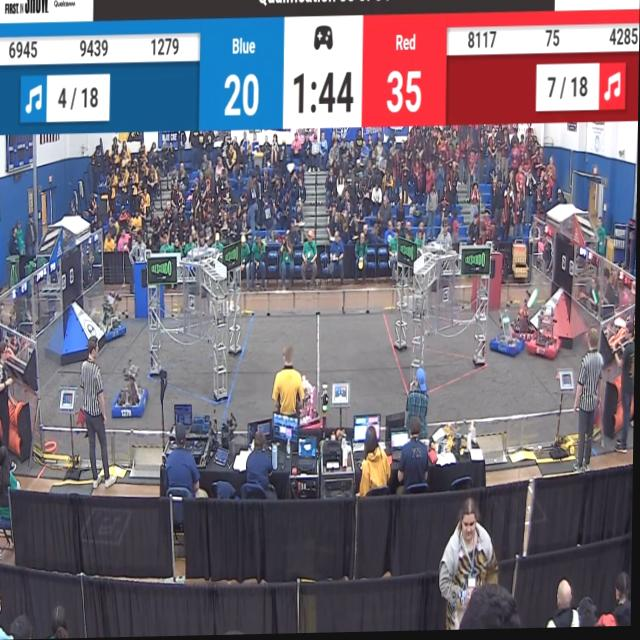Robot: (527, 295, 564, 367), (114, 358, 150, 422), (491, 303, 526, 363), (295, 372, 326, 436), (513, 279, 541, 342), (98, 288, 128, 345)
